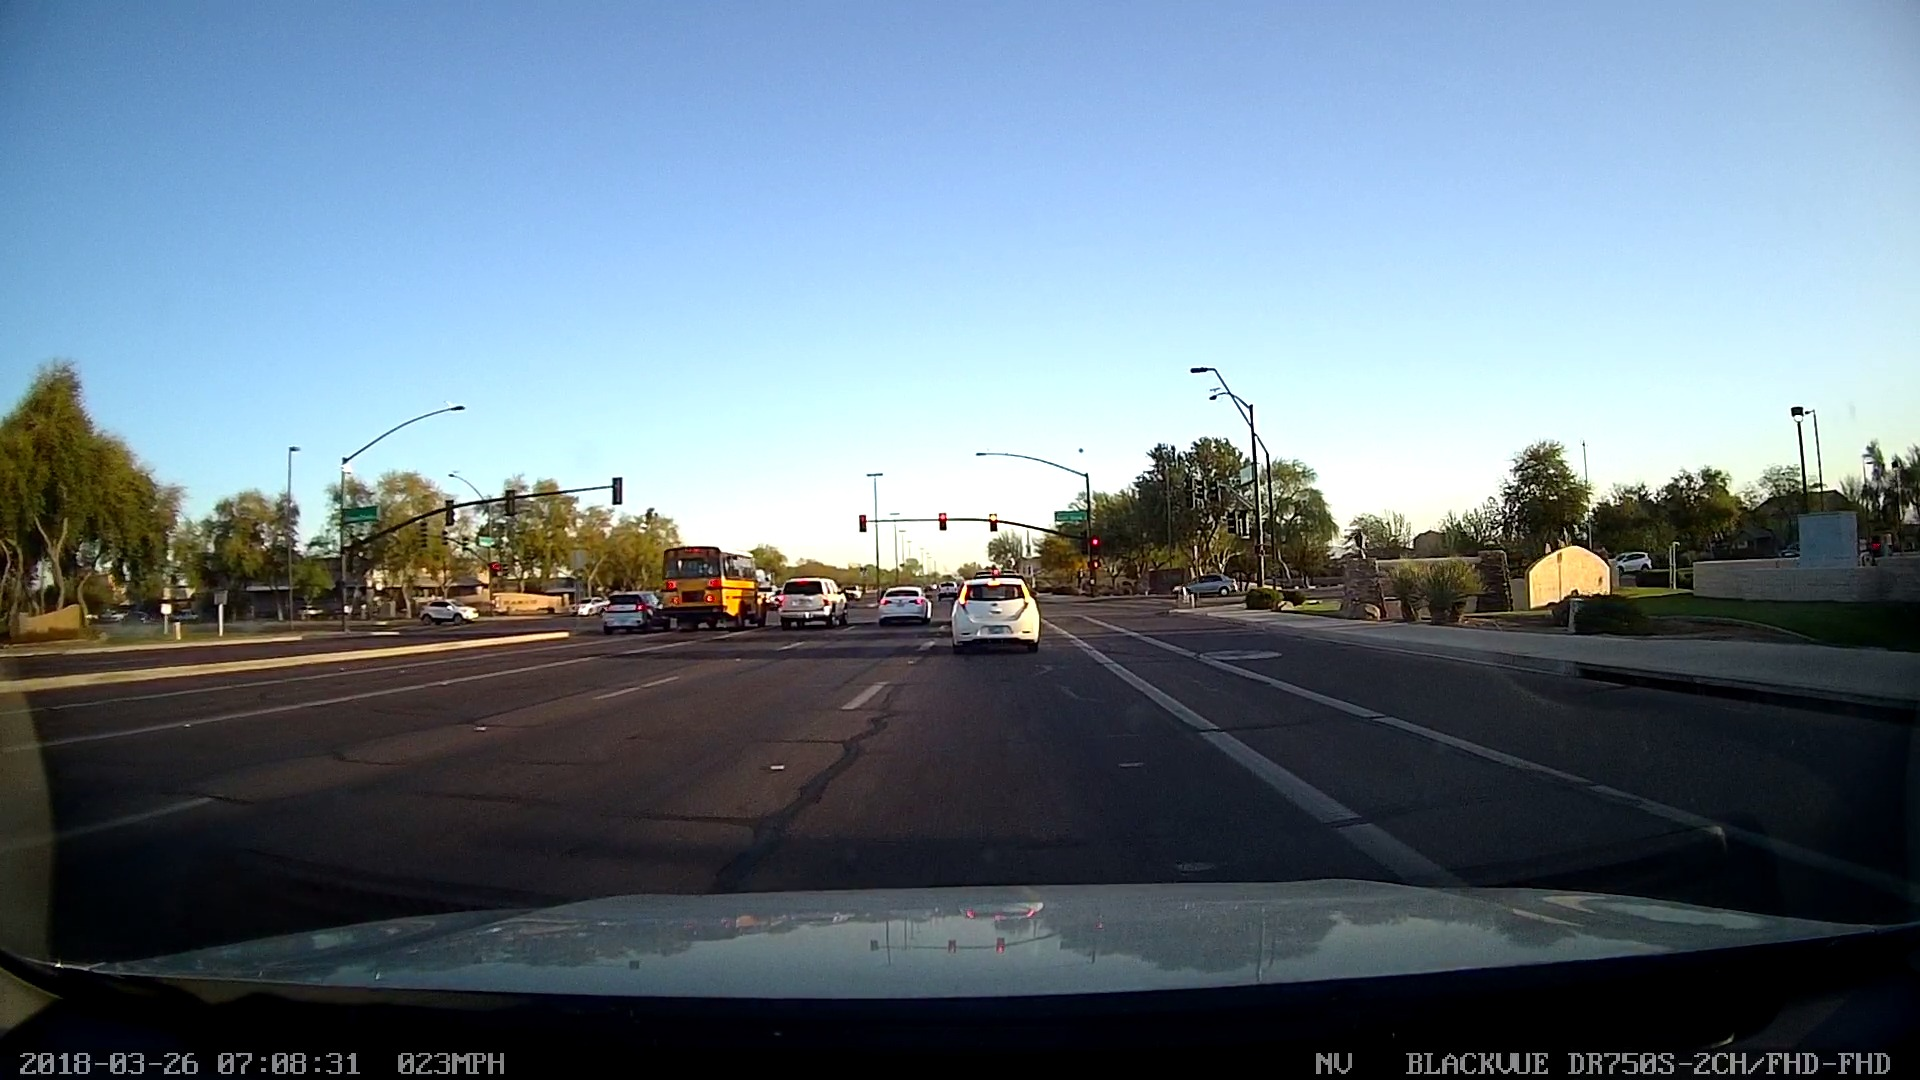vehicle: (654, 537, 775, 636), (942, 568, 1047, 658), (771, 572, 845, 632), (597, 580, 659, 638), (878, 578, 935, 632), (1167, 566, 1242, 603), (419, 589, 484, 624)
